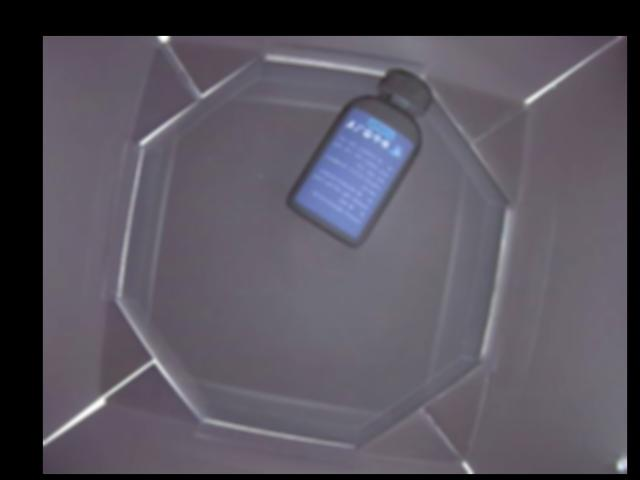Bottle: (287, 66, 431, 246)
